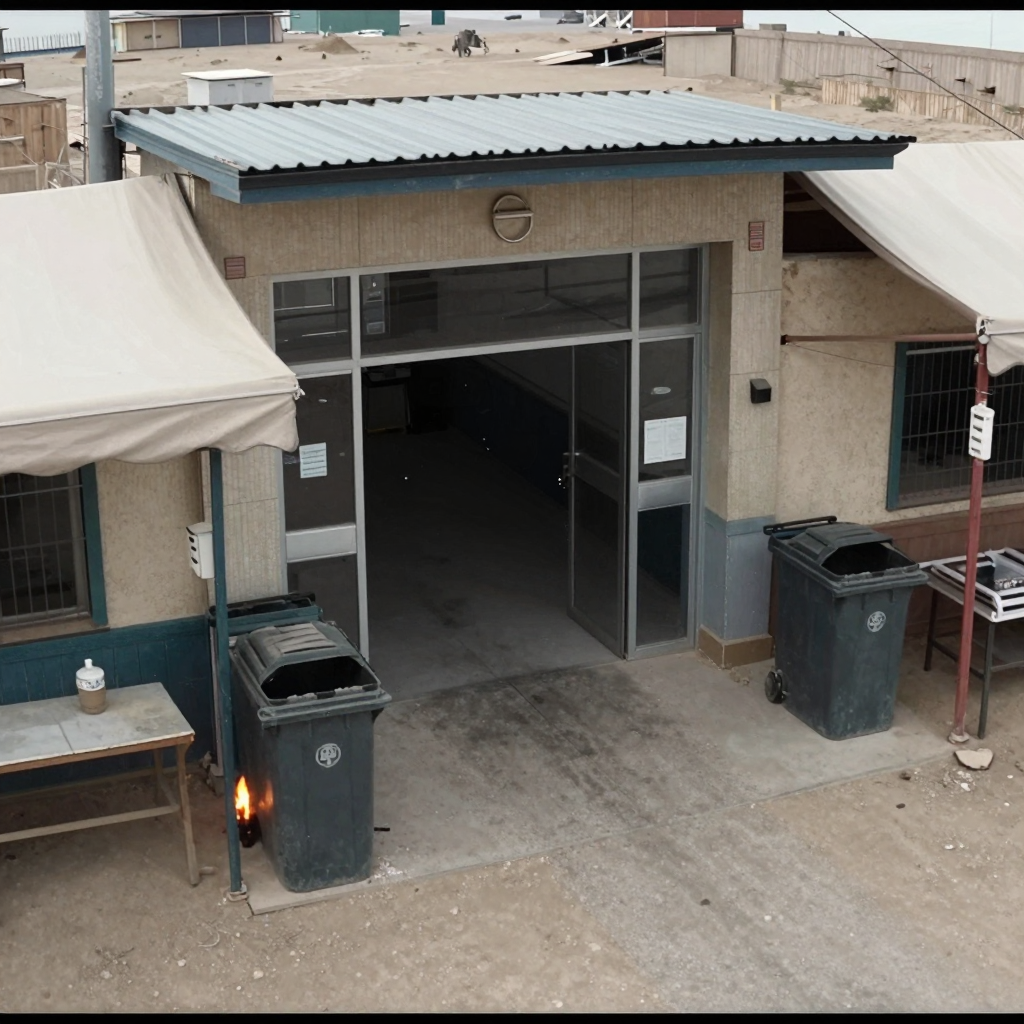Arson: (226, 779, 257, 834)
